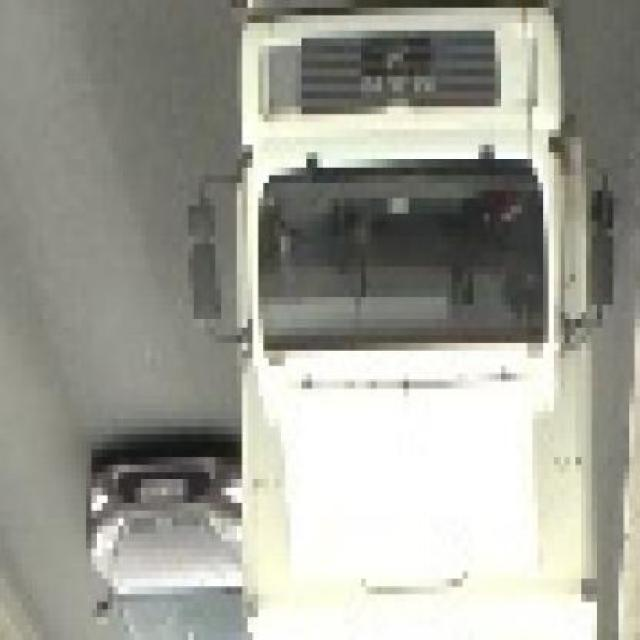truck: (189, 16, 609, 640)
